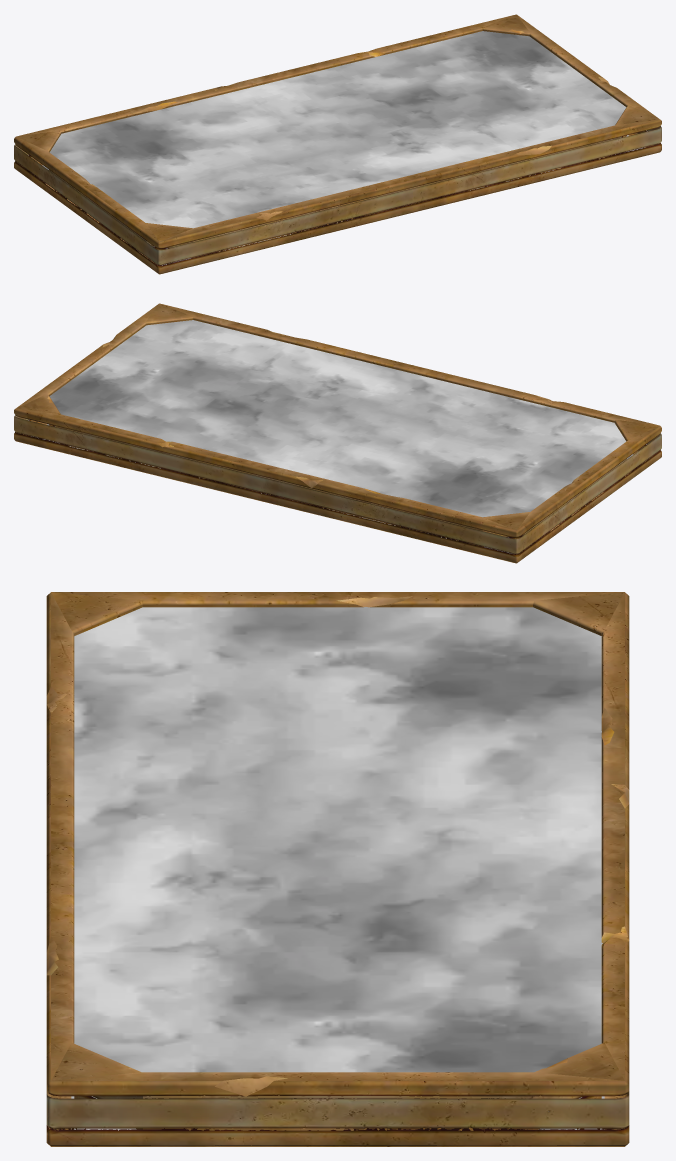
The picture shows the model from 3 angles, top to bottom: view 1: azimuth 30°, elevation 25°; view 2: azimuth 150°, elevation 25°; view 3: azimuth 270°, elevation 25°; orthographic projection. The views are drawn at different scales.
Parts seen in each view (by area): view 1: SM_AgilityPlatform_4x2_LOD0; view 2: SM_AgilityPlatform_4x2_LOD0; view 3: SM_AgilityPlatform_4x2_LOD0.
Part boxes in pixels (x1,y1,x2,y2): SM_AgilityPlatform_4x2_LOD0: (14, 14, 661, 274); SM_AgilityPlatform_4x2_LOD0: (14, 303, 661, 563); SM_AgilityPlatform_4x2_LOD0: (46, 592, 629, 1146).
Size of the model in its own units: 4 by 0.25 by 2.
2 materials, 2 textured.
